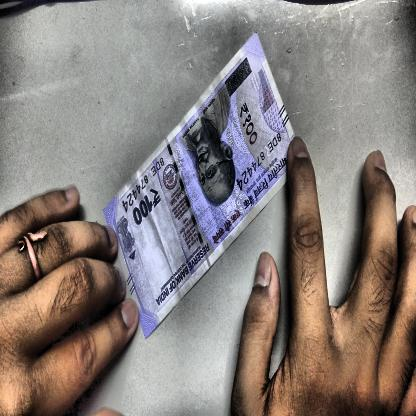Rs100: (129, 180, 164, 233)
